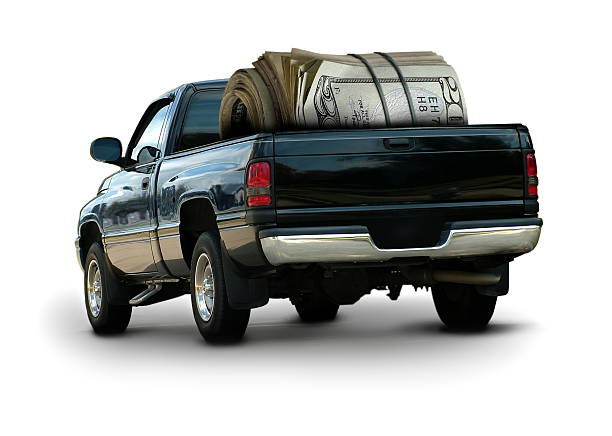Truck: (75, 46, 543, 348)
